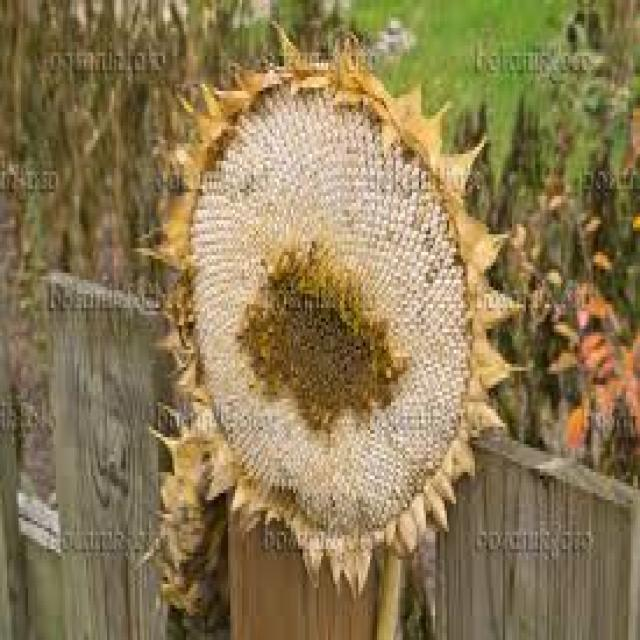sunflower: (131, 22, 531, 610)
